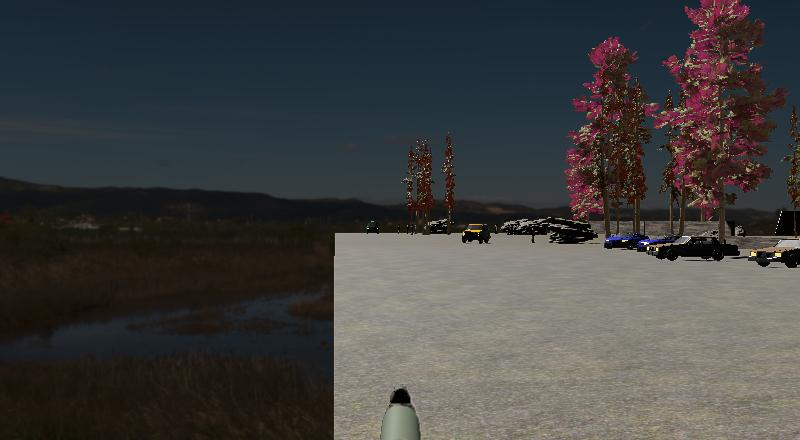car: (655, 234, 739, 261), (751, 237, 800, 268), (604, 231, 651, 251), (643, 234, 677, 255), (461, 222, 492, 245)
